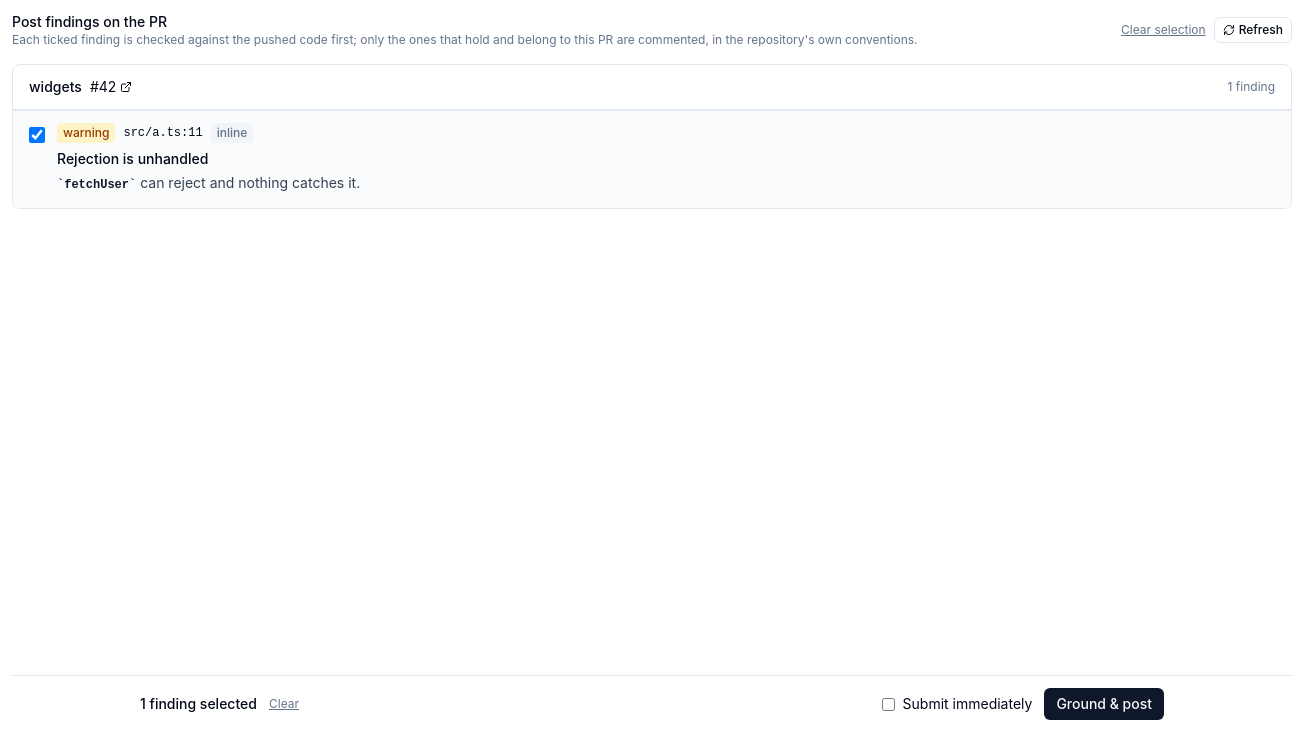
ReviewFindingsList › the select-all toggle › turns into a clear once everything is selected
Step 1. Click the button "Clear selection" → (1163,30), box [1121, 22, 1206, 38]
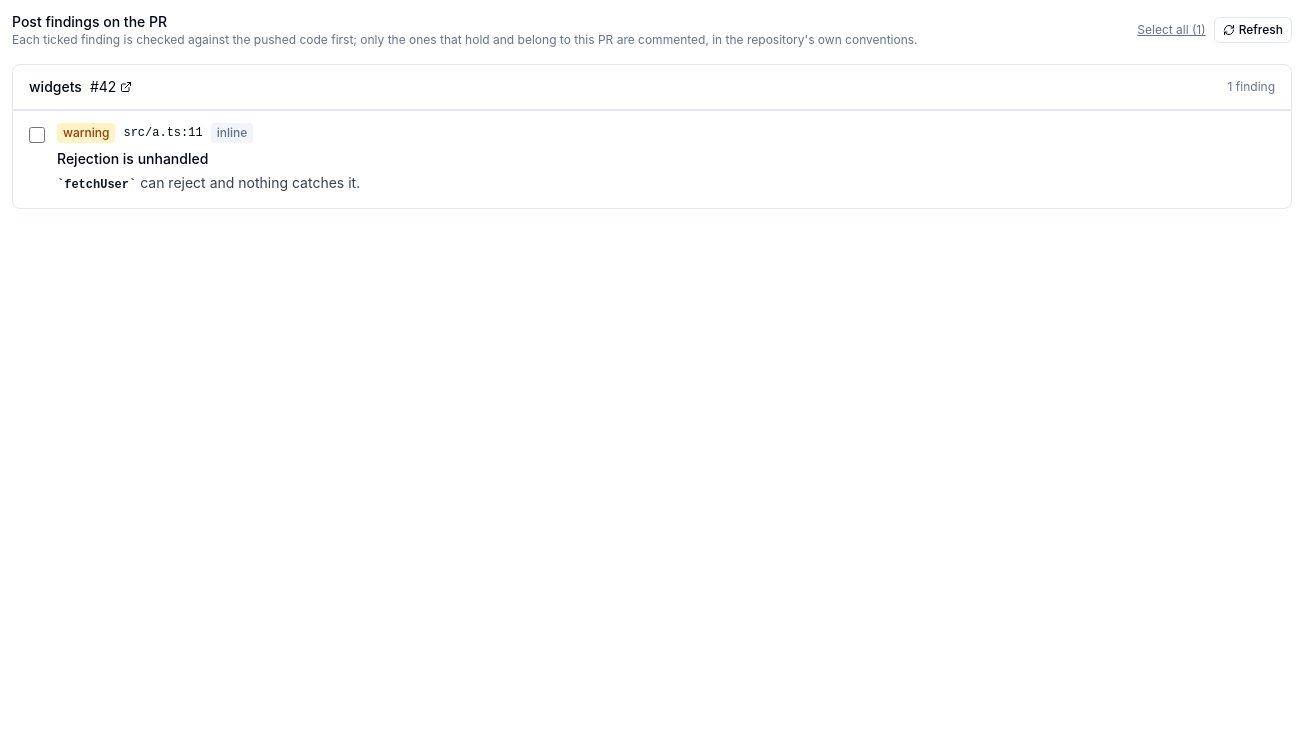
Expected: the text "1 finding selected" is gone
Expected: the button "Select all (1)" is shown, [1137, 22, 1206, 38]
